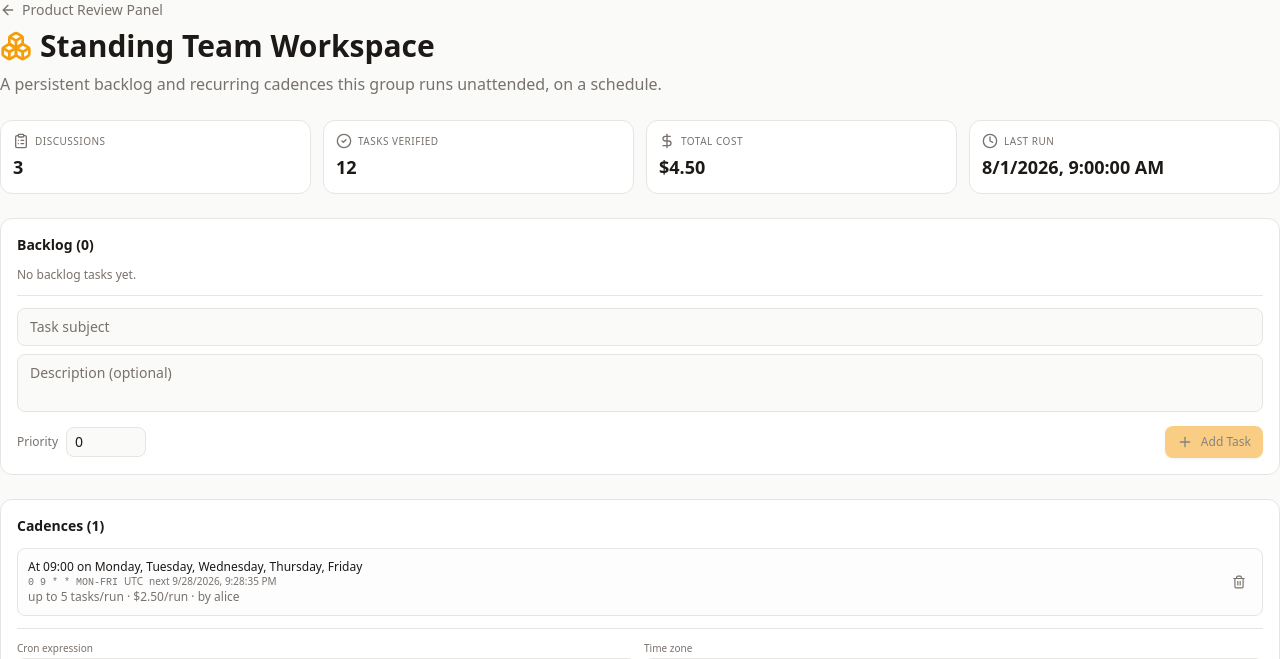
Scenario: GroupWorkspacePage › lists an existing cadence and deletes it after confirmation
This screenshot has width=1280, height=659.
Expected: the element with test id "cadence-cad-1" shows "alice", 188,588 -> 240,605
Click the button with test id "delete-cadence-cad-1" at (1239,582), box 1226,569 -> 1252,595
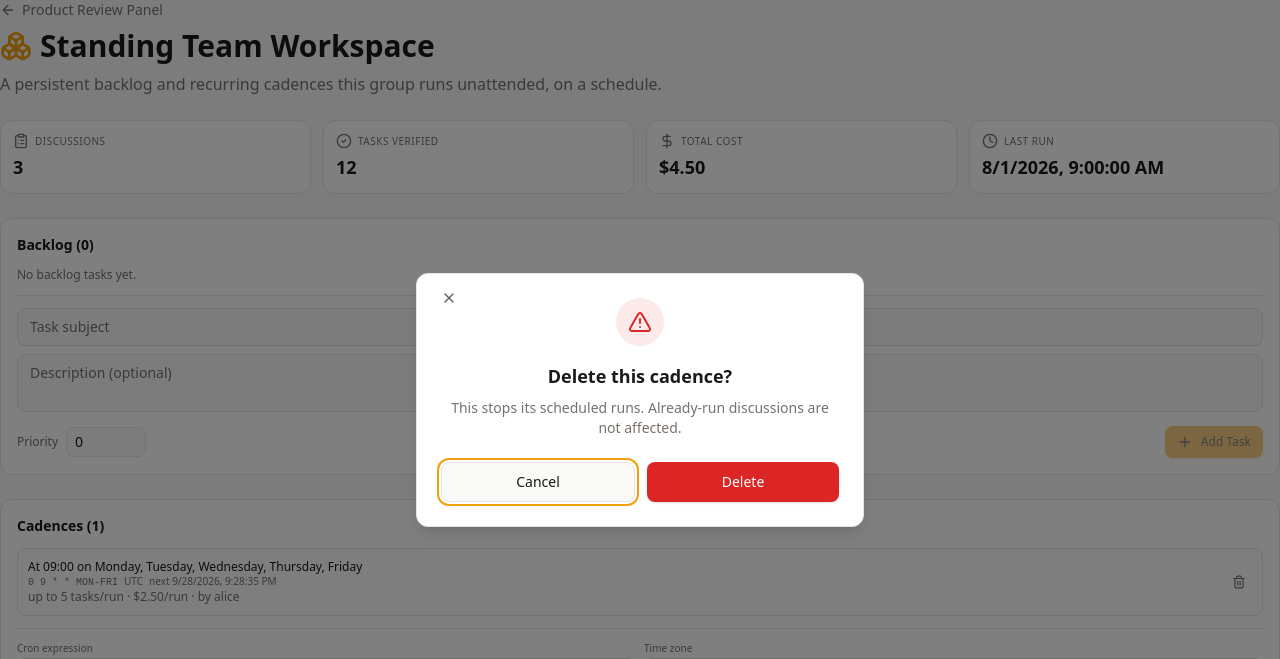
Expected: the element with test id "cadence-cad-1" is shown, 17,548 -> 1263,616
Click the button "Delete" at (743,482), box 647,462 -> 839,502
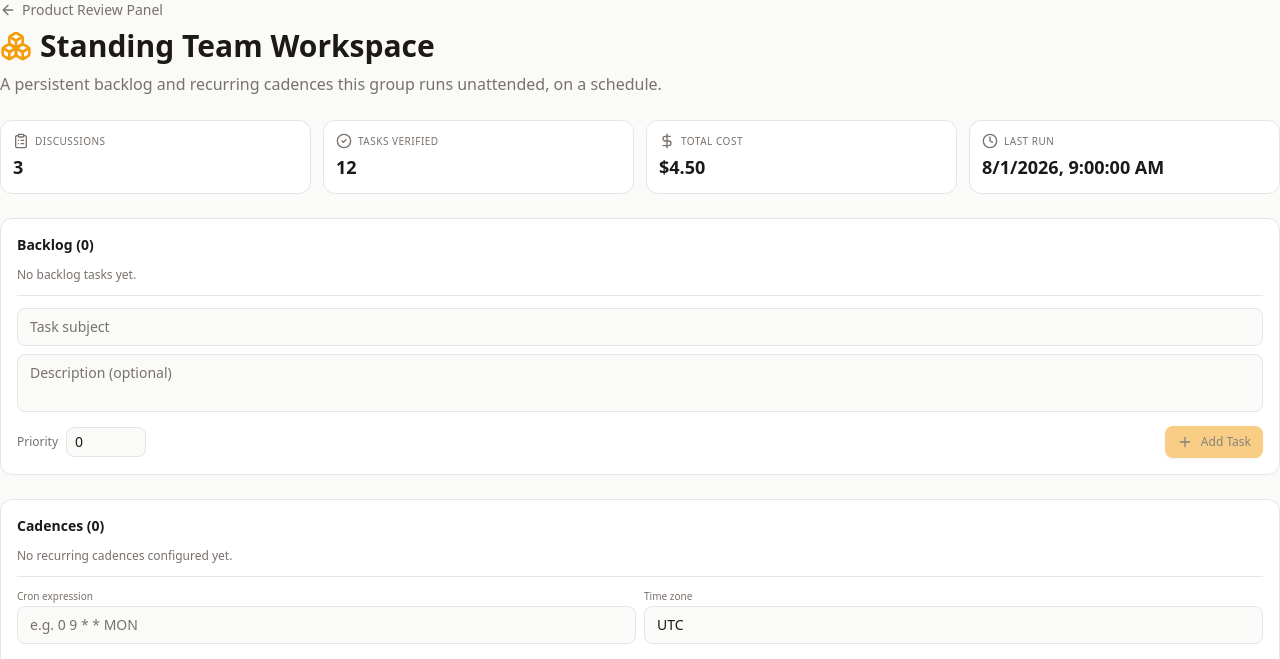
Now the element with test id "cadence-cad-1" is gone
